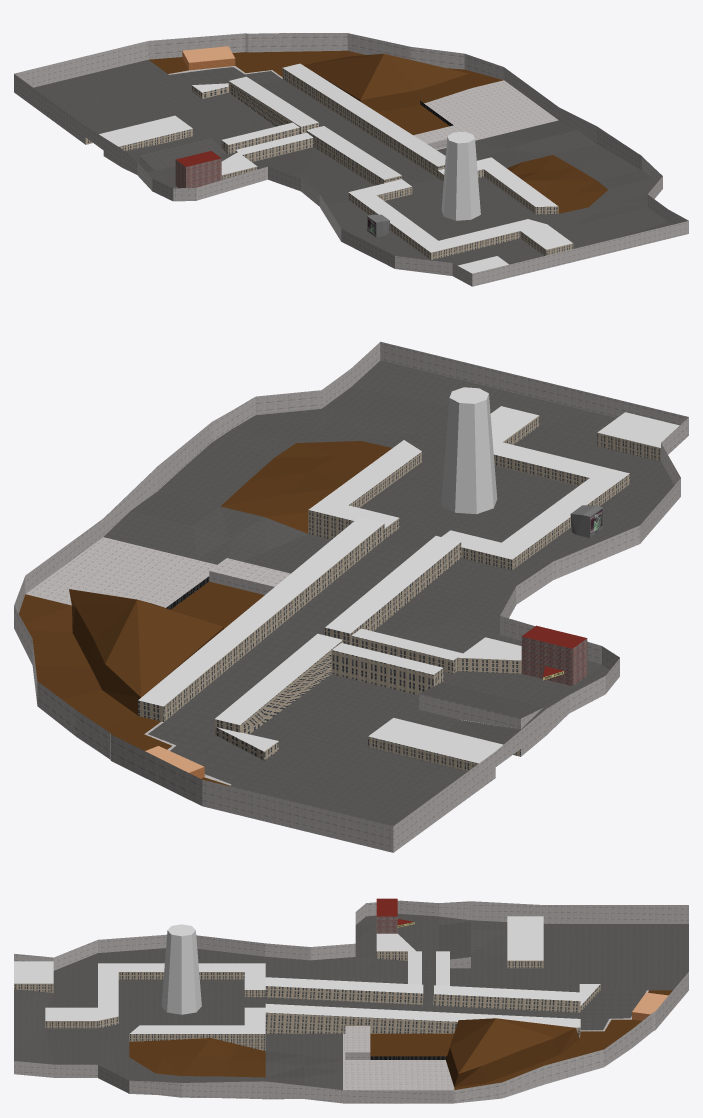
Rendered from Map.glb.
The picture shows the model from 3 angles, top to bottom: view 1: azimuth 30°, elevation 25°; view 2: azimuth 150°, elevation 25°; view 3: azimuth 270°, elevation 25°; orthographic projection. The views are drawn at different scales.
Parts seen in each view (by area): view 1: Zoo-col, Theater-col, Tower-col, DirtZooPath-col, PizzaTowerStreet-col, Backstreet-col, TVArea-col, Pizza-col, Petshop-col, PetstoreAlley-col, TV-col; view 2: Zoo-col, Theater-col, PizzaTowerStreet-col, Tower-col, Backstreet-col, DirtZooPath-col, TVArea-col, Petshop-col, Pizza-col, PetstoreAlley-col, TV-col; view 3: Zoo-col, Theater-col, Tower-col, PizzaTowerStreet-col, DirtZooPath-col, Backstreet-col, TVArea-col, Petshop-col, Pizza-col, PetstoreAlley-col.
Boxes of the visible parts, x1,y1,x2,y2 form: Zoo-col: (377,67,662,225); Theater-col: (14,41,275,166); Tower-col: (348,131,573,259); DirtZooPath-col: (245,33,503,112); PizzaTowerStreet-col: (228,63,445,185); Backstreet-col: (395,194,688,286); TVArea-col: (196,147,430,268); Pizza-col: (148,33,281,98); Petshop-col: (121,138,257,201); PetstoreAlley-col: (221,122,313,161); TV-col: (367,214,389,237); Zoo-col: (25,390,425,628); Theater-col: (202,674,546,852); PizzaTowerStreet-col: (138,517,461,734); Tower-col: (308,387,629,570); Backstreet-col: (321,341,688,493); DirtZooPath-col: (14,576,224,760); TVArea-col: (374,478,680,674); Petshop-col: (419,625,619,734); Pizza-col: (111,722,278,805); PetstoreAlley-col: (331,628,462,695); TV-col: (570,505,603,537); Zoo-col: (98,1026,454,1103); Theater-col: (450,901,688,992); Tower-col: (98,924,265,1050); PizzaTowerStreet-col: (265,977,580,1038); DirtZooPath-col: (446,1011,655,1103); Backstreet-col: (14,940,97,1077); TVArea-col: (98,925,407,983); Petshop-col: (355,898,470,968); Pizza-col: (579,972,688,1030); PetstoreAlley-col: (408,951,449,996).
Size of the model in its own units: 214 by 48 by 322.
15 materials, 9 textured.
